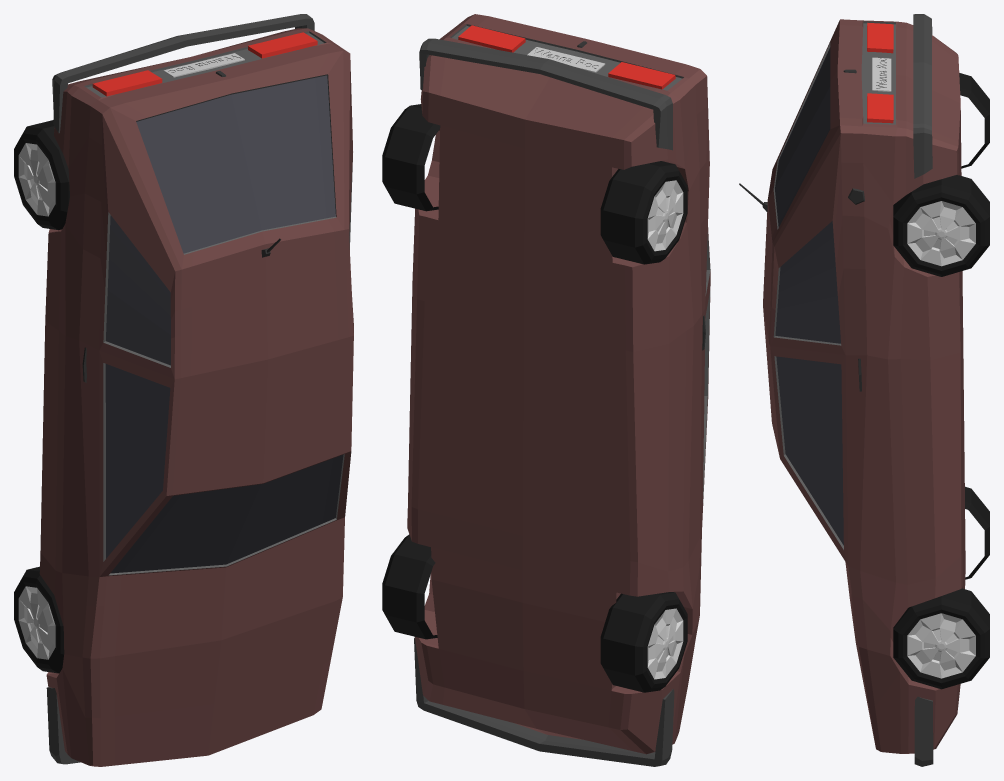
The model's file is volks.glb.
The picture shows the model from 3 angles, left to right: view 1: azimuth 30°, elevation 25°; view 2: azimuth 150°, elevation 25°; view 3: azimuth 270°, elevation 25°; orthographic projection. The views are drawn at different scales.
Visible parts, largest first — view 1: Плоскость_003; view 2: Плоскость_003; view 3: Плоскость_003.
Part boxes in pixels (<box>): Плоскость_003: <box>14,14,353,766</box>; Плоскость_003: <box>382,14,710,766</box>; Плоскость_003: <box>739,14,989,766</box>.
Bounding box in the file's own units: 2.46 × 6.12 × 2.1.
